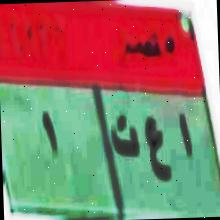1: (36, 98, 62, 163)
ain: (142, 114, 172, 191)
alif: (172, 113, 199, 168)
taa: (106, 113, 140, 166)
